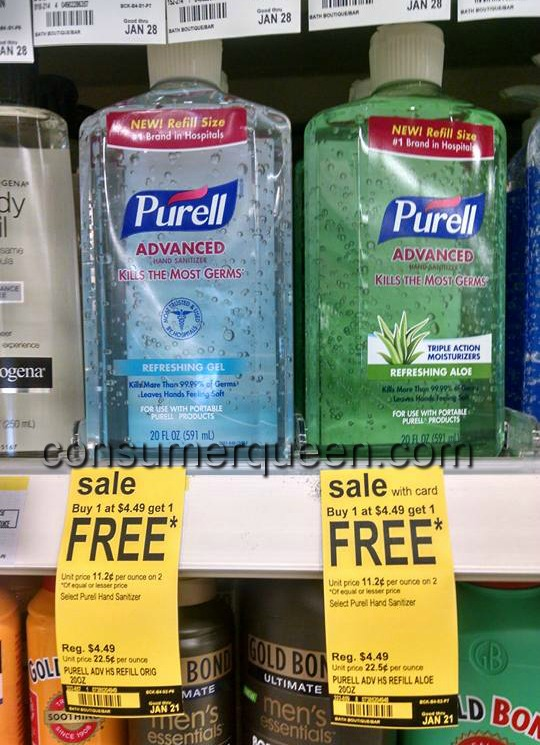Sanitizer: (72, 24, 306, 471), (291, 17, 521, 466)
